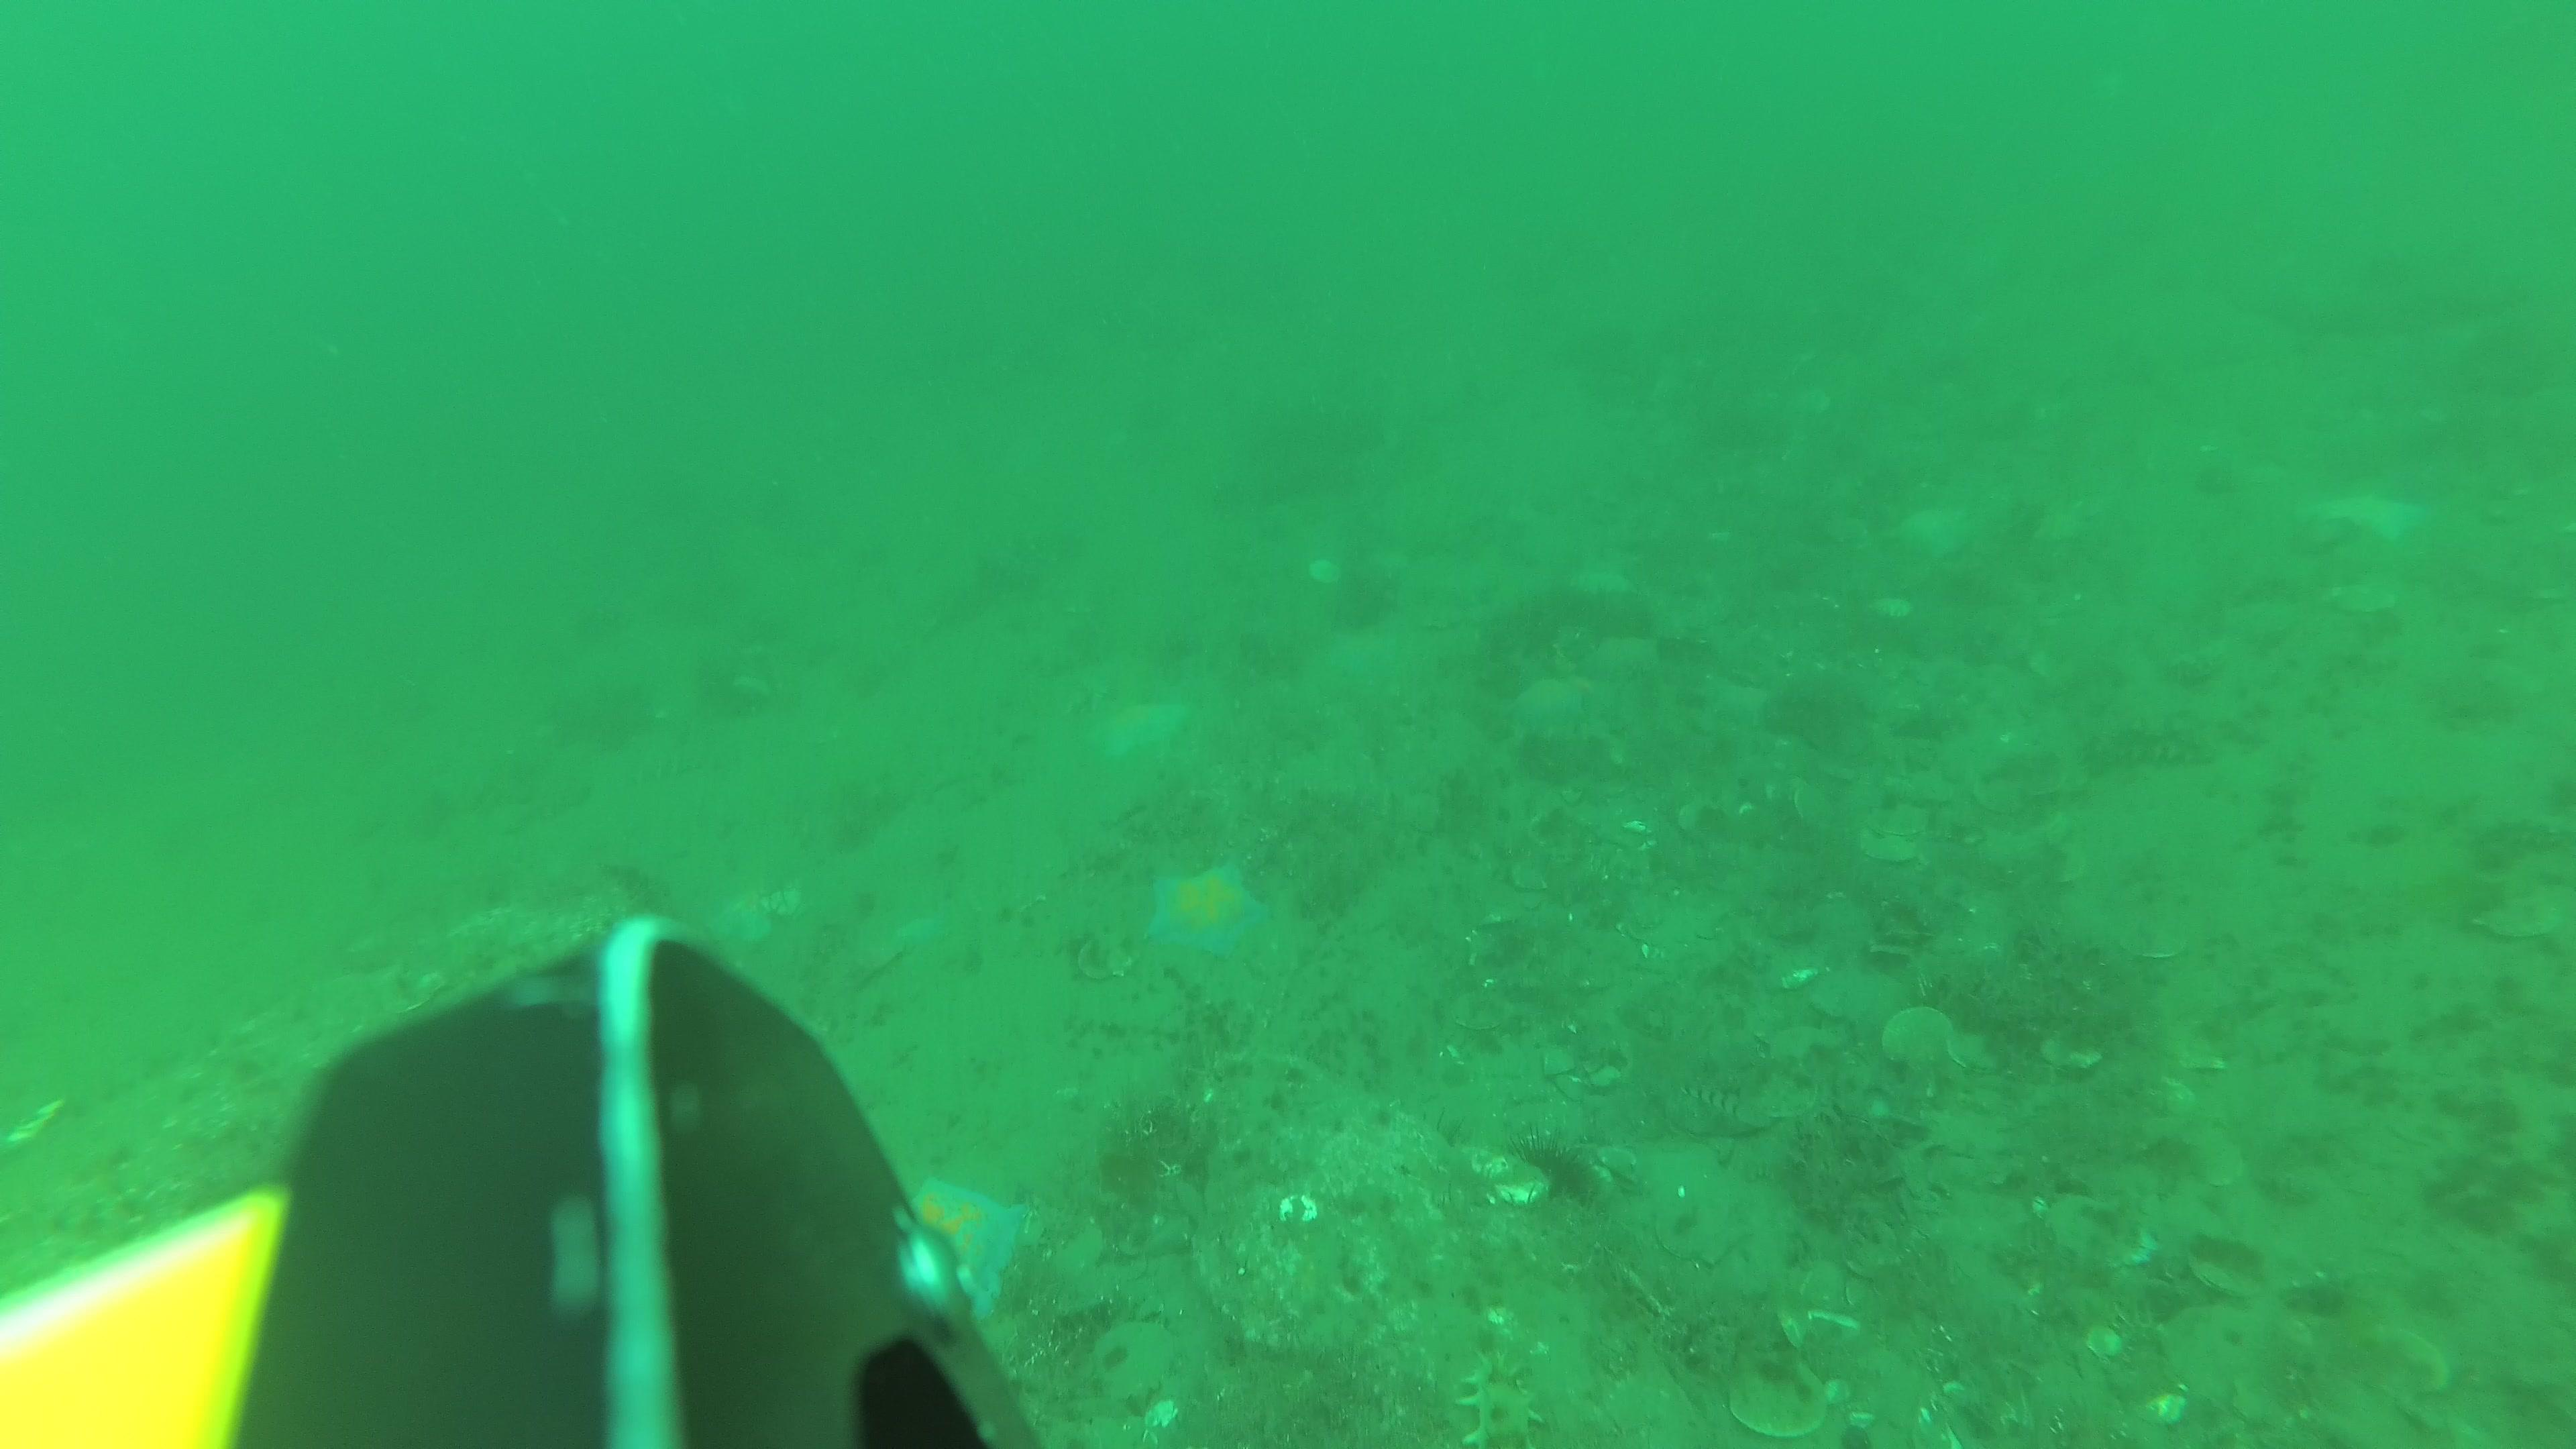echinus: (1500, 1127, 1610, 1219)
holothurian: (1445, 1352, 1550, 1449), (2088, 727, 2219, 771)
scallop: (1721, 1334, 1836, 1442), (2040, 1191, 2164, 1274), (2351, 1318, 2457, 1407), (1652, 1185, 1752, 1269), (2180, 1235, 2273, 1306), (1877, 1001, 1960, 1077), (2468, 895, 2564, 943), (2111, 916, 2199, 964), (1447, 984, 1516, 1033), (2040, 1030, 2107, 1077), (1074, 931, 1132, 982), (1943, 1030, 2005, 1077), (1854, 830, 1927, 867), (1868, 801, 1932, 839)
starfish: (899, 1169, 1046, 1323), (1134, 851, 1274, 968), (2304, 476, 2442, 548), (692, 883, 810, 962), (1088, 694, 1189, 770), (1888, 499, 1980, 568), (1502, 672, 1583, 736)
